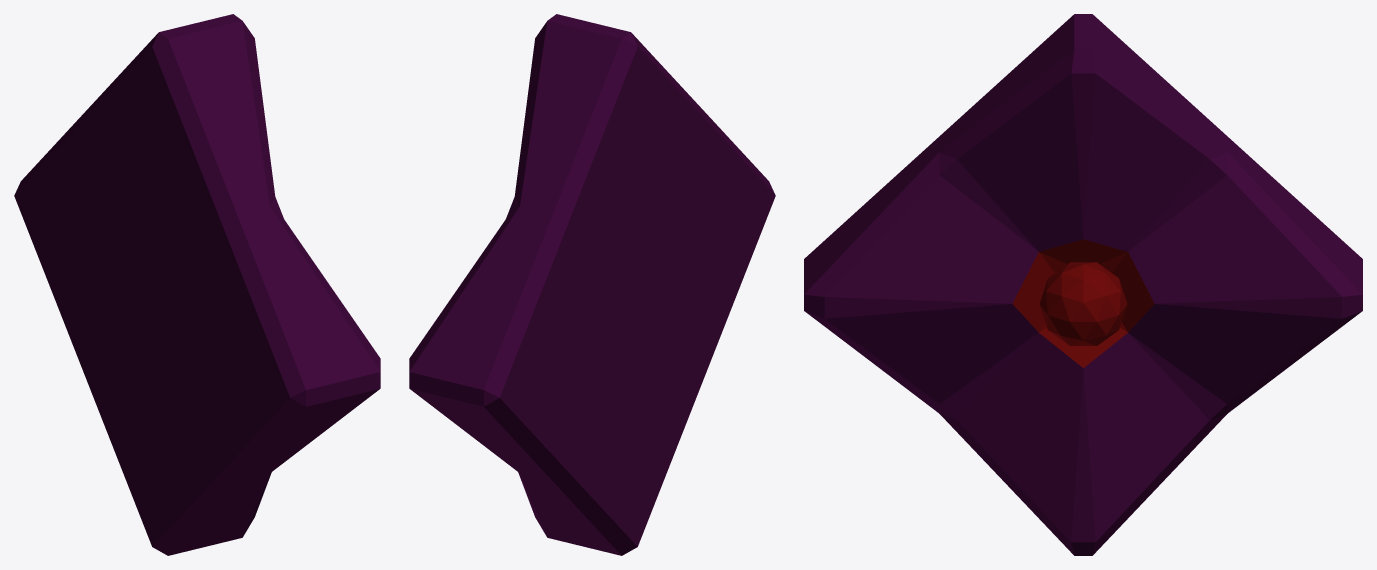
File: Laser_x1.fbx
3 renders of one model, left to right at view 1: azimuth 30°, elevation 25°; view 2: azimuth 150°, elevation 25°; view 3: azimuth 270°, elevation 25°, orthographic. The views are drawn at different scales.
Parts seen in each view (by area): view 1: Cube; view 2: Cube; view 3: Cube, Icosphere.
Boxes of the visible parts, <box> form: Cube: <box>14,14,380,555</box>; Cube: <box>409,14,775,555</box>; Cube: <box>804,14,1362,555</box>; Icosphere: <box>1039,262,1127,345</box>.
Bounding box in the file's own units: 69.78 × 274 × 274.
